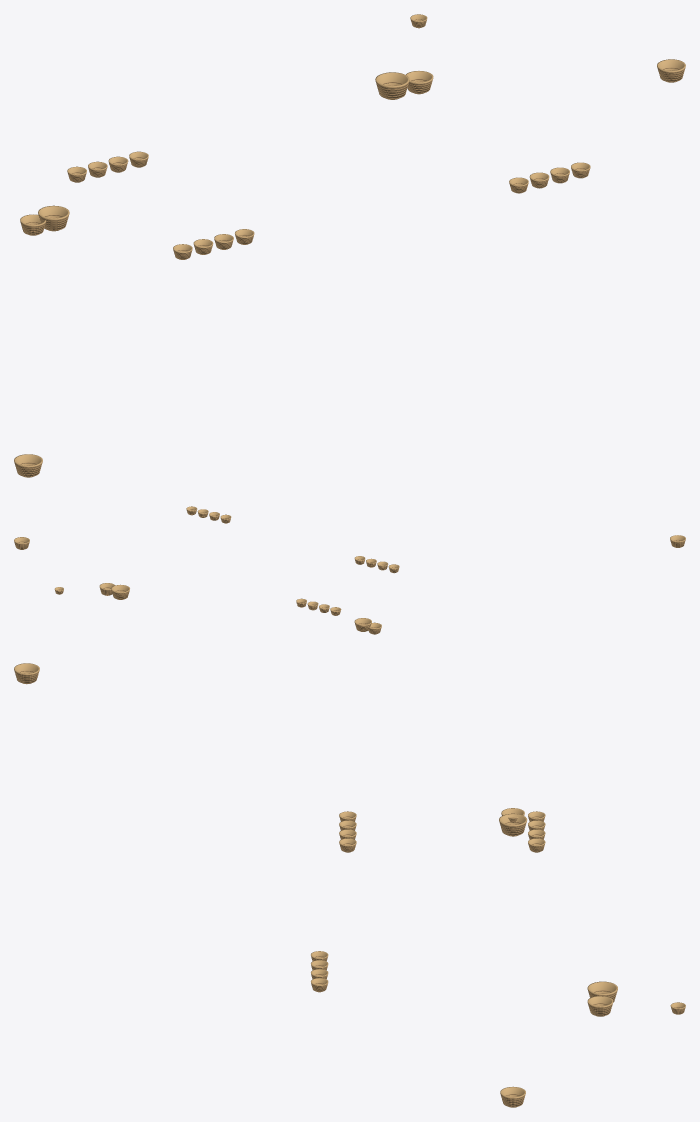
Rendered from SM_WovenBaskets.fbx.
The picture shows the model from 3 angles, top to bottom: view 1: azimuth 30°, elevation 25°; view 2: azimuth 150°, elevation 25°; view 3: azimuth 270°, elevation 25°; orthographic projection. The views are drawn at different scales.
Parts seen in each view (by area): view 1: SM_WovenBaskets_Export; view 2: SM_WovenBaskets_Export; view 3: SM_WovenBaskets_Export.
Part boxes in pixels (x1,y1,x2,y2): SM_WovenBaskets_Export: [14, 14, 685, 477]; SM_WovenBaskets_Export: [14, 506, 685, 634]; SM_WovenBaskets_Export: [14, 663, 685, 1107].
Bounding box in the file's own units: 4110 × 2848 × 174.
